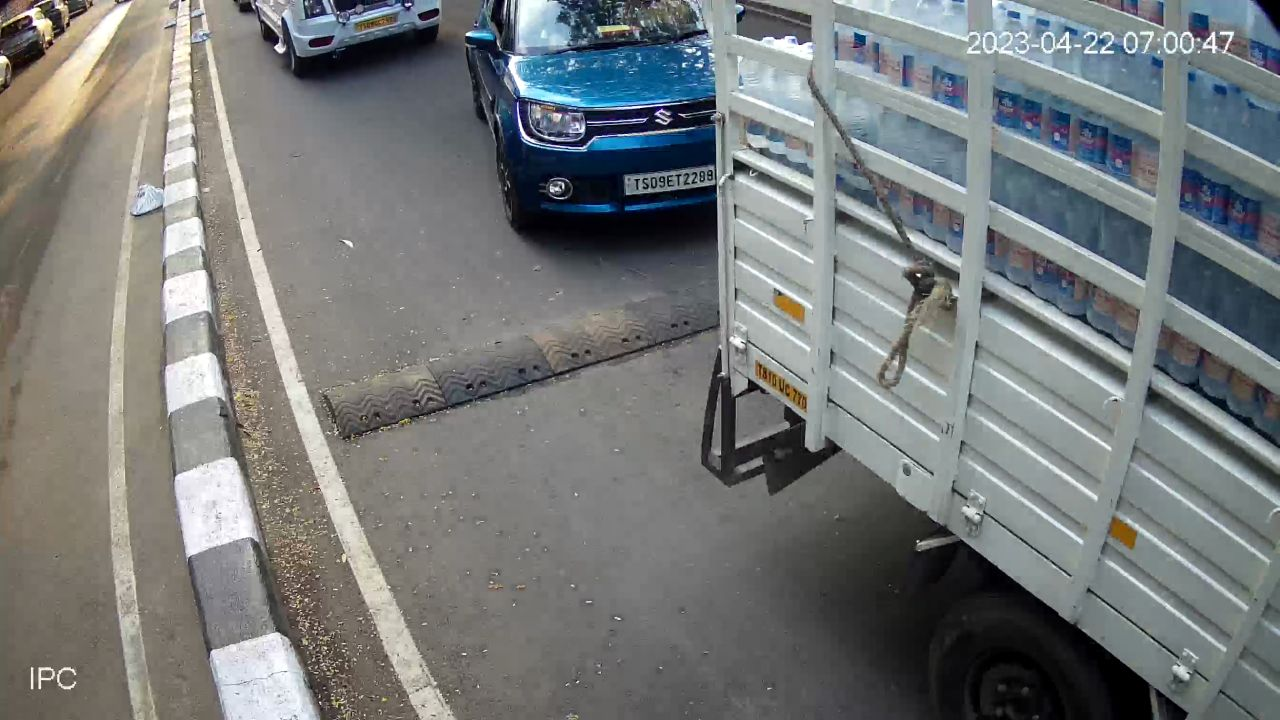license_plate: (620, 162, 721, 199)
